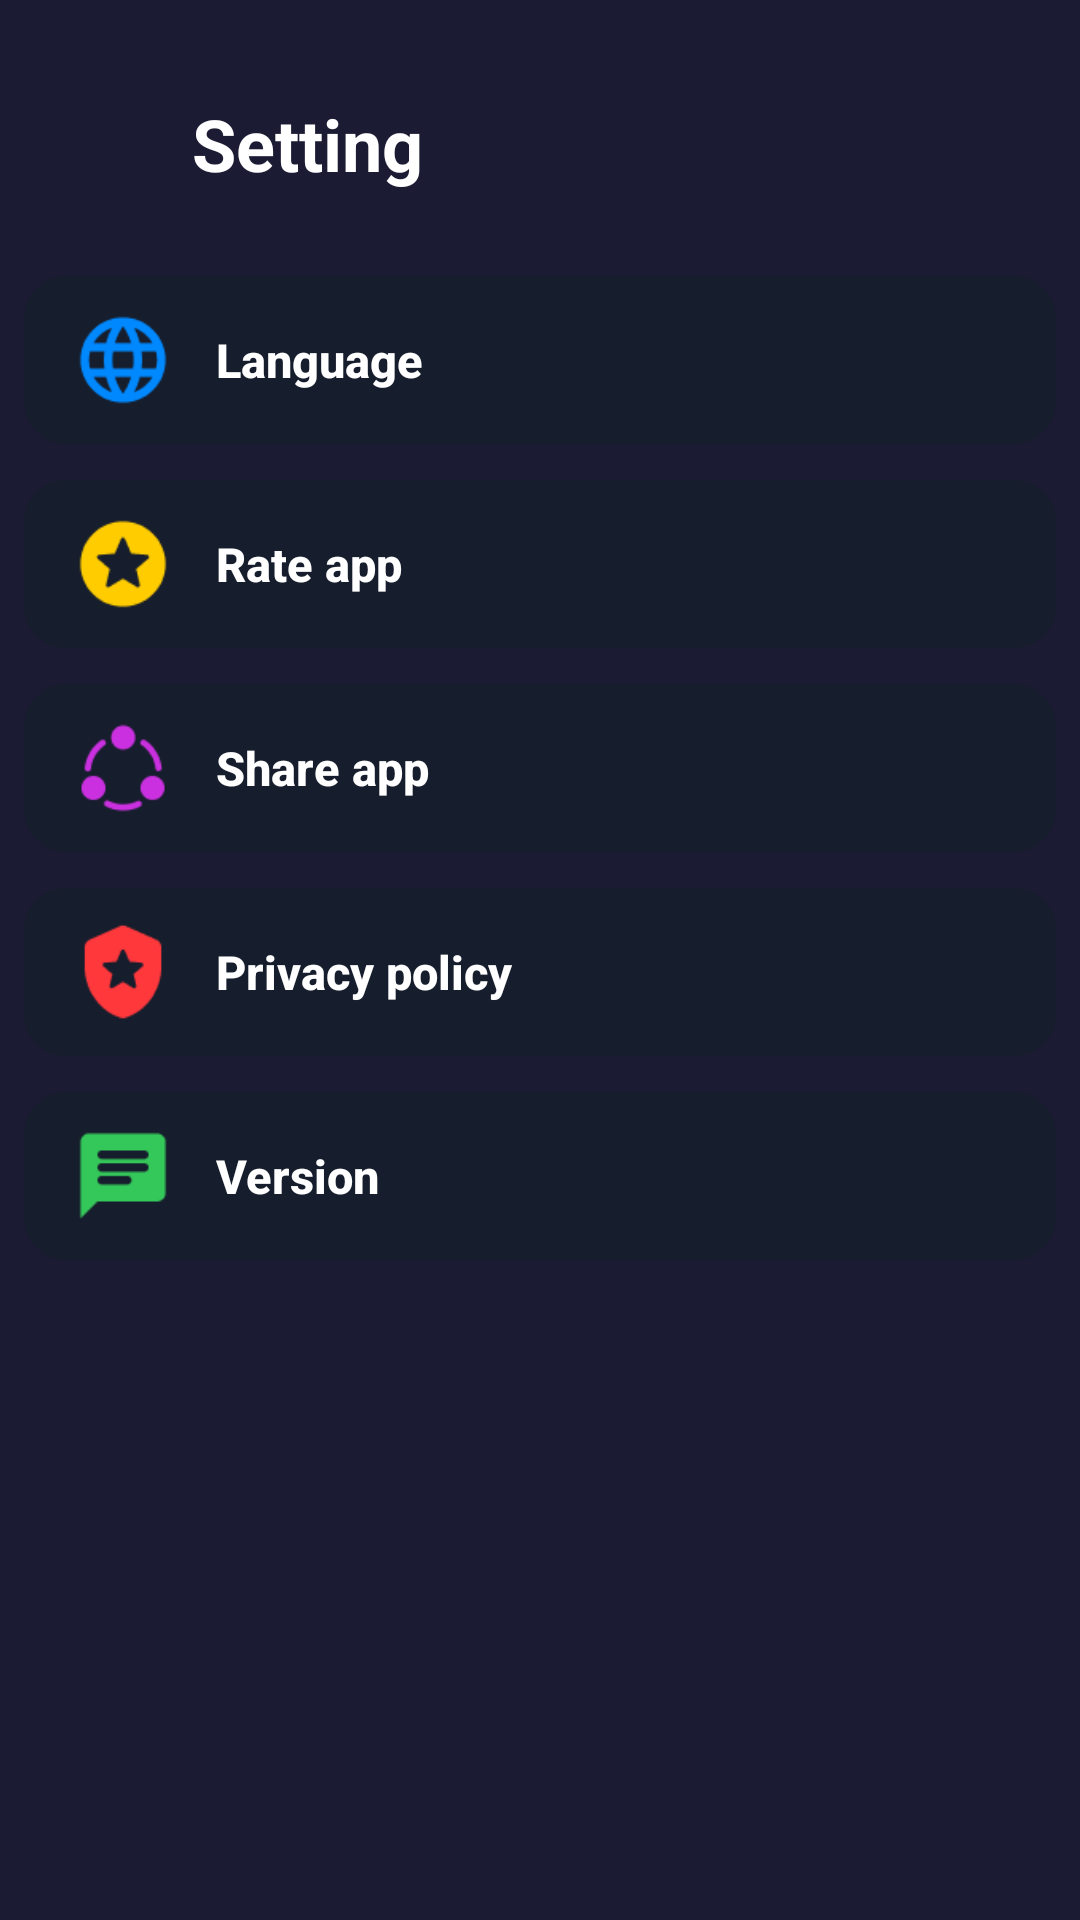

Icon click points for this 1080 × 1920 phone screenshot, format point (x, y):
setting policy: point (123, 972)
